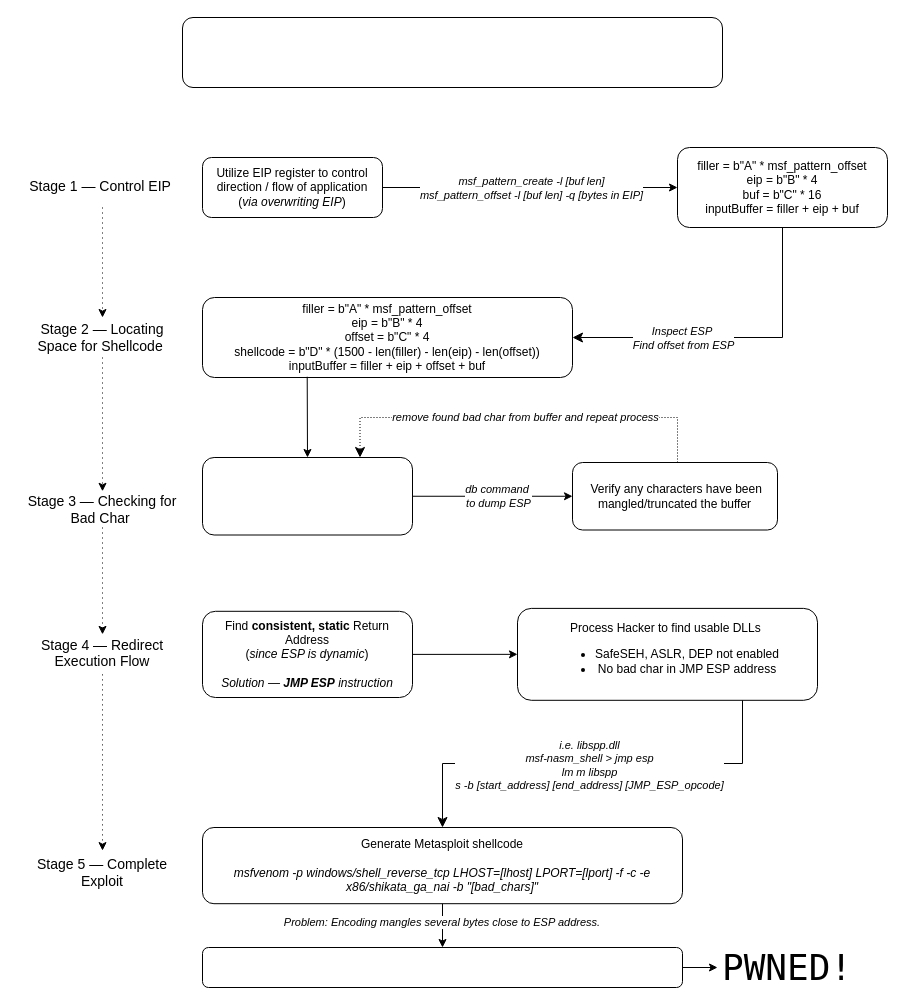
The diagram is 905 pixels wide and 1006 high, and some of its shapes have lost their labels. Here are the shapes that lost their labels. From the top down, the centre of each, then its label:
point (452, 52): Win32 Buffer Overflow Exploitation Flow Model
point (307, 495): Replace shellcode with all possible hex characters less 0x00
point (442, 967): NOP Sled
